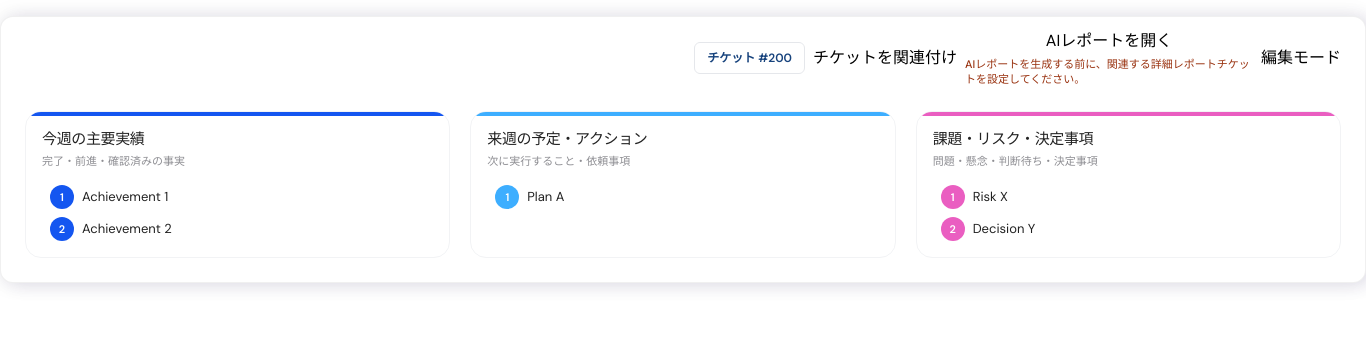
Test: ReportDetailPanel › enables save and shows unsaved indicator when row is edited
Click the button with test id "toggle-edit-mode-btn". click: point(1301, 58)
box: left=1261, top=46, right=1341, bottom=70
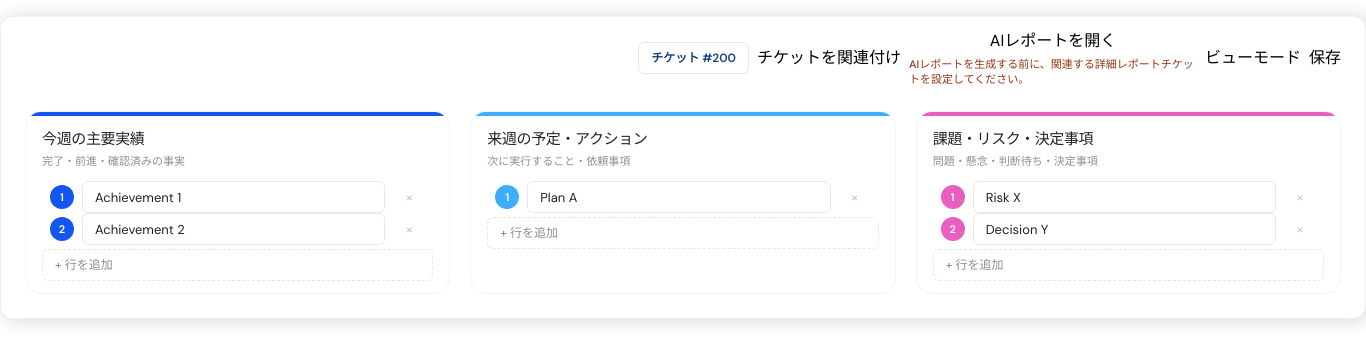
Expected: the field with test id "detail-input-fact-0" is shown
Note: Edit a row
Replace the text in the field with test id "detail-input-fact-0" with "Edited". click: point(234, 197)
box: left=82, top=181, right=385, bottom=213
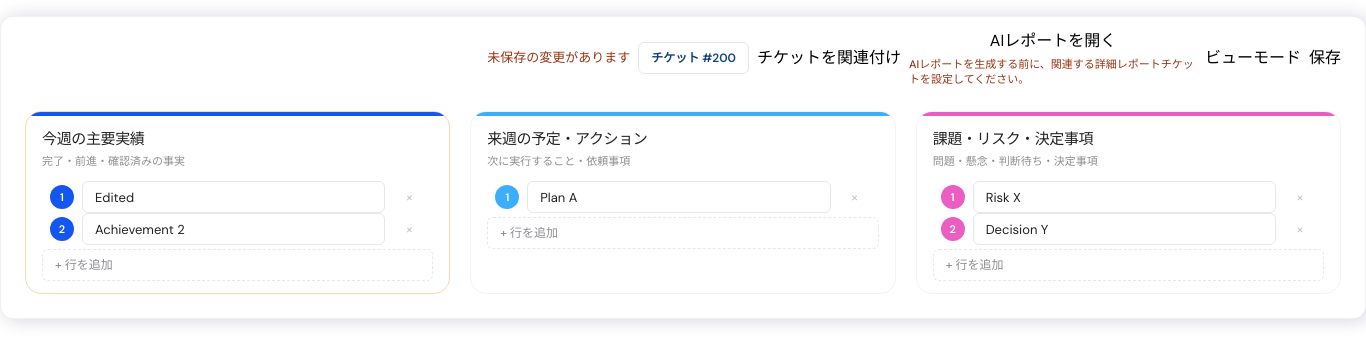
Expected: the button with test id "save-detail-btn" is enabled, left=1309, top=42, right=1341, bottom=74
Expected: the text "未保存の変更があります" is shown, left=487, top=48, right=630, bottom=68
